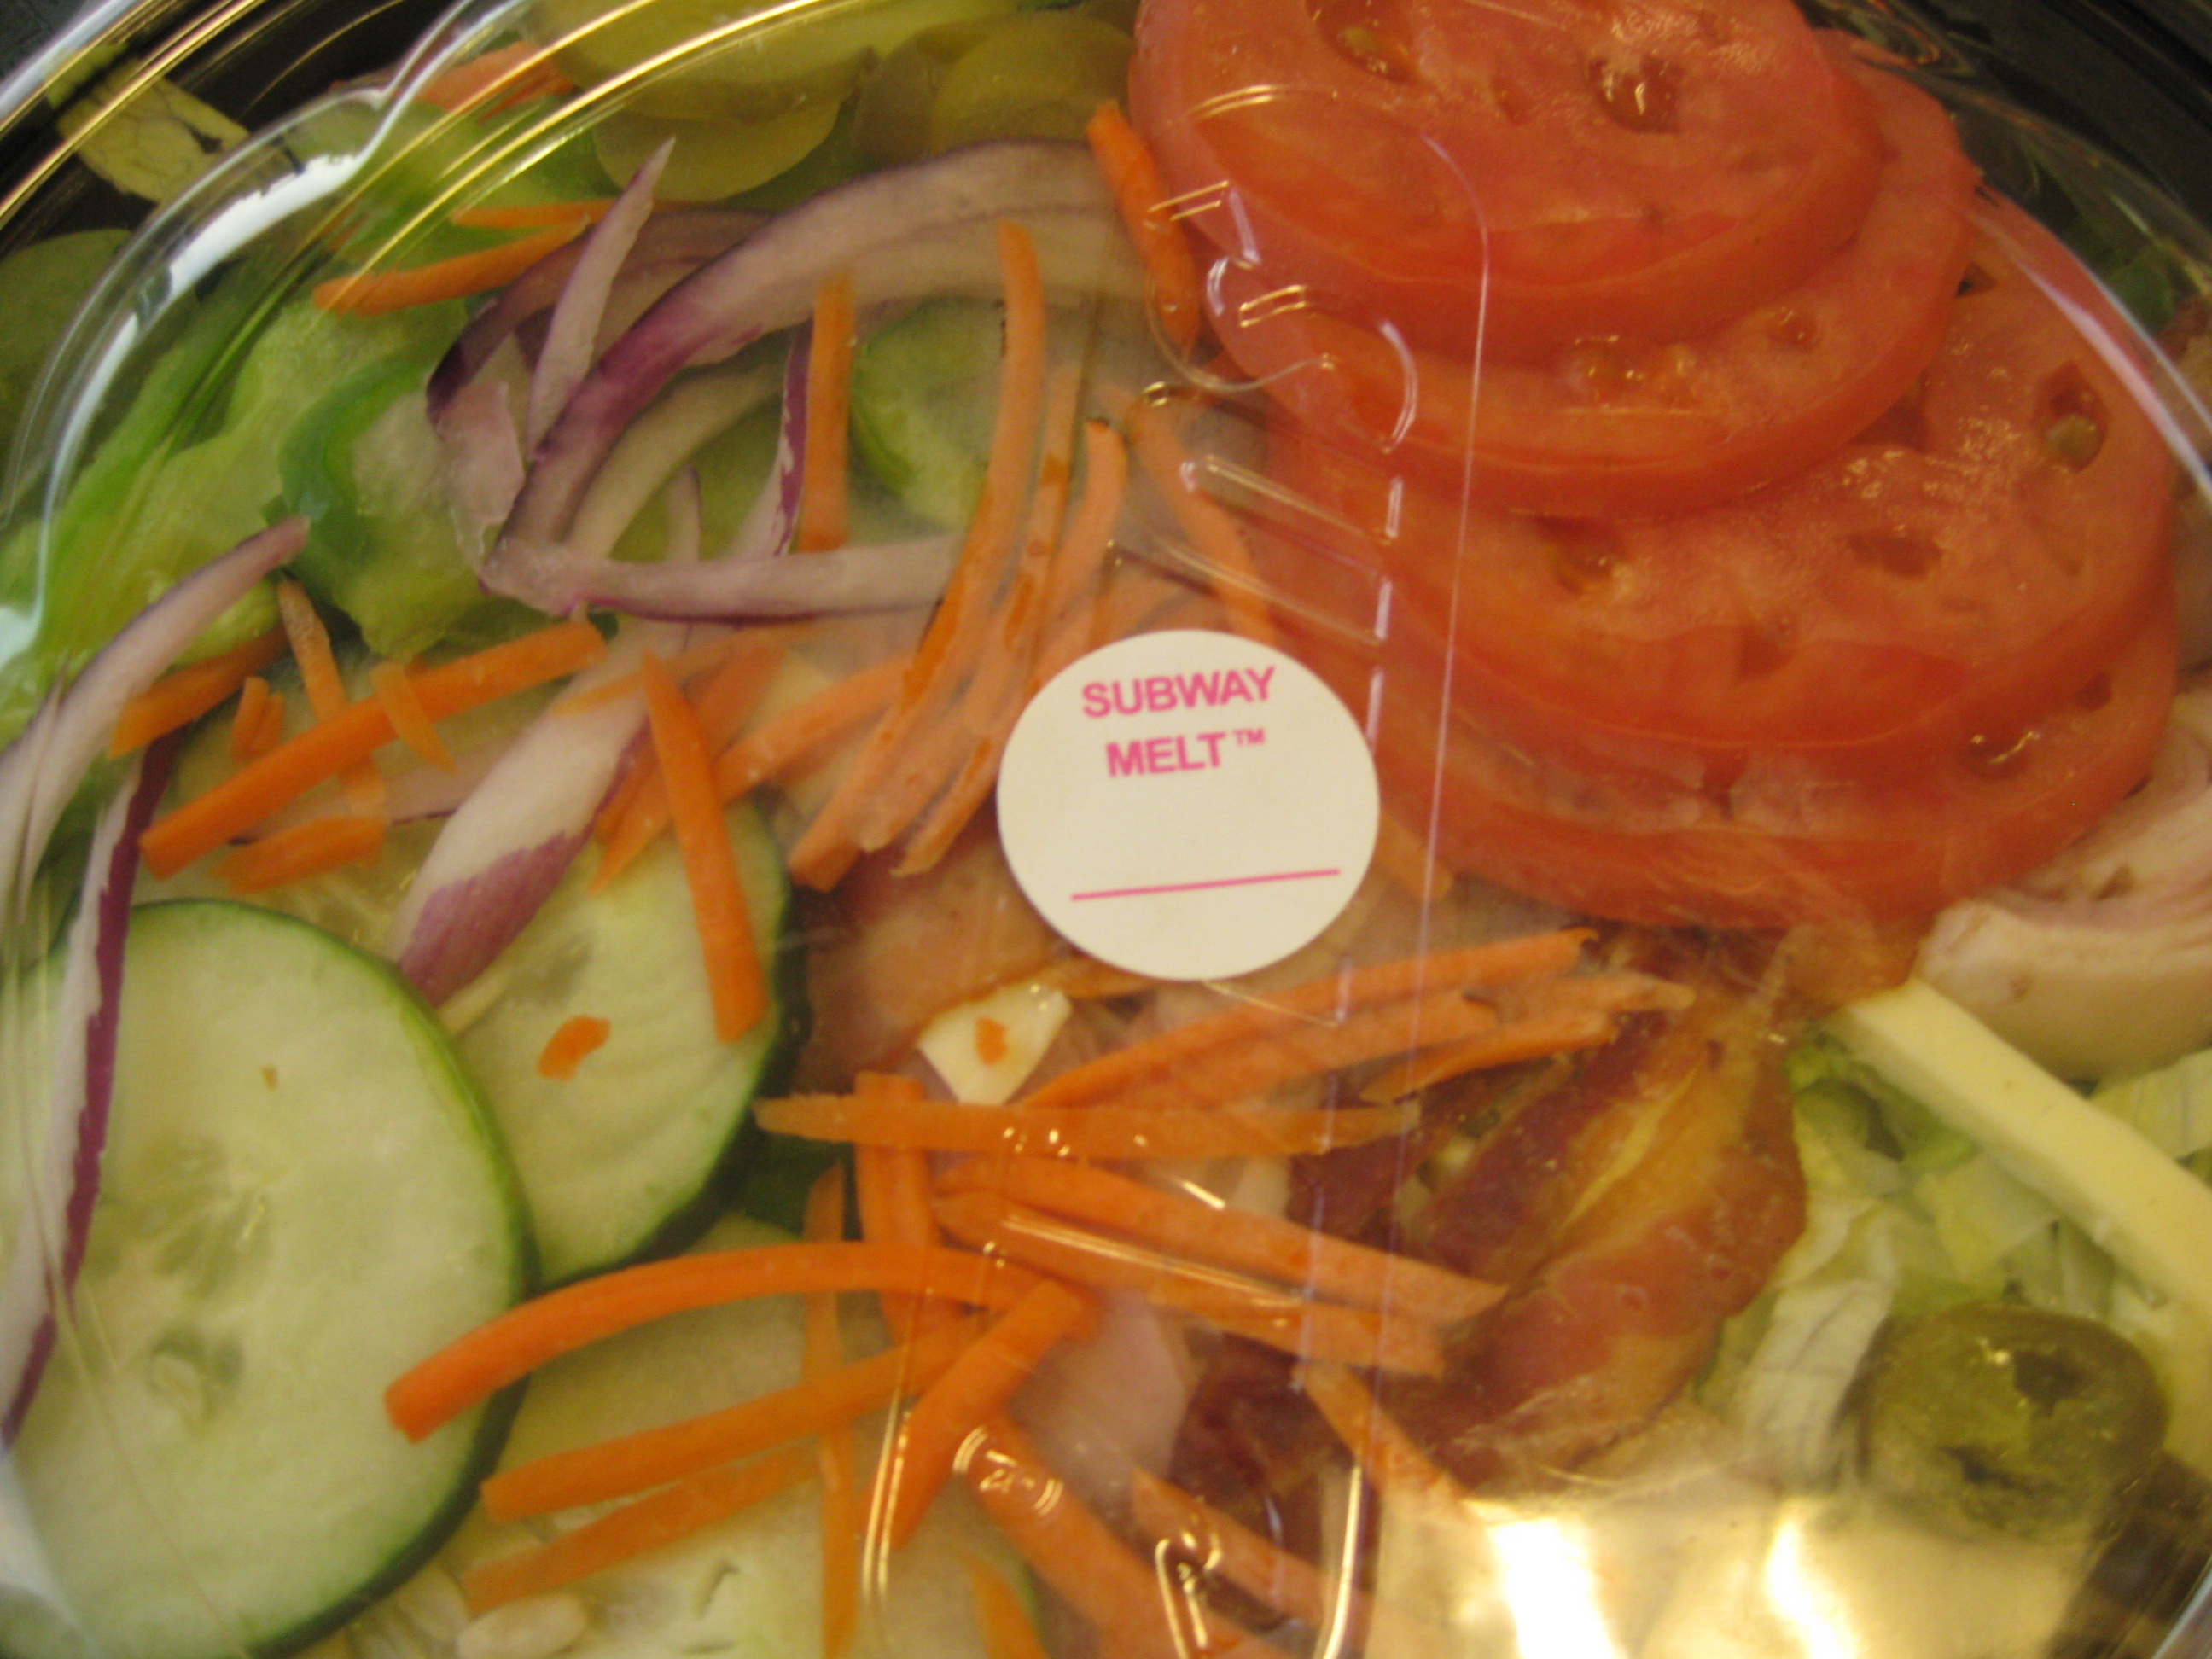salad: (26, 66, 2182, 1611)
